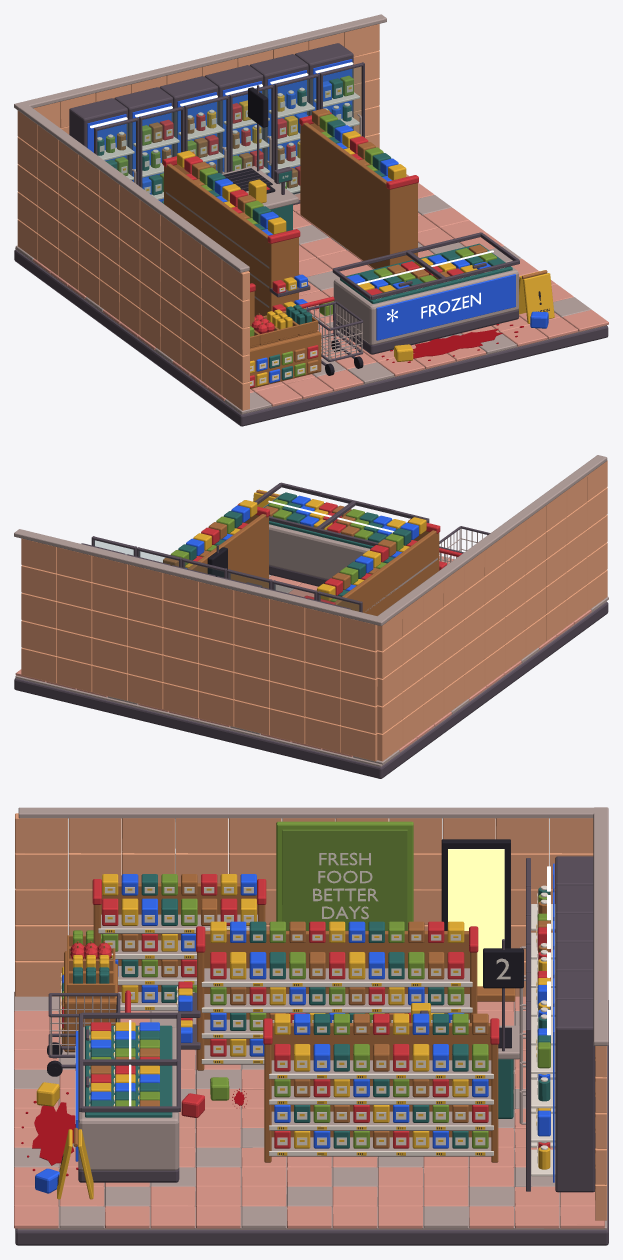
3 renders of one model, top to bottom at view 1: azimuth 30°, elevation 25°; view 2: azimuth 150°, elevation 25°; view 3: azimuth 270°, elevation 25°, orthographic. The views are drawn at different scales.
Visible parts, largest first — view 1: static_pal_skinWarm, static_pal_woodWarm, static_pal_asphalt, static_pal_sidewalk, static_pal_skinBlush, static_pal_policeBlue, static_pal_schoolBusYellow, static_pal_picketWhite, static_pal_backpackTeal, static_pal_survivorRed, door_fridge_04_mesh, door_fridge_03_mesh (+10 smaller); view 2: static_pal_skinWarm, static_pal_sidewalk, static_pal_asphalt, static_pal_woodWarm, static_pal_backpackTeal, static_pal_schoolBusYellow, static_pal_skinBlush, static_pal_survivorRed, static_pal_policeBlue, static_pal_foliage, door_freezer_00_mesh, door_freezer_01_mesh (+6 smaller); view 3: static_pal_sidewalk, static_pal_skinBlush, static_pal_skinWarm, static_pal_asphalt, static_pal_picketWhite, static_pal_woodWarm, static_pal_schoolBusYellow, static_pal_backpackTeal, static_pal_grass, static_pal_foliage, static_pal_policeBlue, static_pal_survivorRed (+7 smaller).
Boxes of the visible parts, left/top/right/bottom form: static_pal_skinWarm: left=17, top=24, right=379, bottom=410; static_pal_woodWarm: left=117, top=108, right=547, bottom=388; static_pal_asphalt: left=14, top=43, right=608, bottom=426; static_pal_sidewalk: left=14, top=14, right=606, bottom=414; static_pal_skinBlush: left=33, top=174, right=608, bottom=406; static_pal_policeBlue: left=87, top=59, right=548, bottom=383; static_pal_schoolBusYellow: left=123, top=87, right=554, bottom=386; static_pal_picketWhite: left=97, top=84, right=504, bottom=385; static_pal_backpackTeal: left=97, top=78, right=512, bottom=379; static_pal_survivorRed: left=159, top=103, right=463, bottom=387; door_fridge_04_mesh: left=274, top=73, right=319, bottom=205; door_fridge_03_mesh: left=229, top=84, right=274, bottom=179; static_pal_skinWarm: left=21, top=460, right=607, bottom=761; static_pal_sidewalk: left=14, top=455, right=608, bottom=766; static_pal_asphalt: left=14, top=526, right=608, bottom=778; static_pal_woodWarm: left=163, top=490, right=439, bottom=615; static_pal_backpackTeal: left=178, top=492, right=411, bottom=596; static_pal_schoolBusYellow: left=185, top=489, right=426, bottom=600; static_pal_skinBlush: left=15, top=555, right=591, bottom=756; static_pal_survivorRed: left=193, top=502, right=462, bottom=604; static_pal_policeBlue: left=185, top=495, right=418, bottom=590; static_pal_foliage: left=170, top=499, right=403, bottom=601; door_freezer_00_mesh: left=316, top=500, right=429, bottom=546; door_freezer_01_mesh: left=254, top=482, right=354, bottom=531; static_pal_sidewalk: left=14, top=807, right=608, bottom=1229; static_pal_skinBlush: left=14, top=996, right=604, bottom=1228; static_pal_skinWarm: left=15, top=813, right=606, bottom=1220; static_pal_asphalt: left=15, top=856, right=608, bottom=1245; static_pal_picketWhite: left=61, top=852, right=555, bottom=1176; static_pal_woodWarm: left=62, top=874, right=550, bottom=1162; static_pal_schoolBusYellow: left=36, top=874, right=550, bottom=1199; static_pal_backpackTeal: left=62, top=874, right=550, bottom=1148; static_pal_grass: left=282, top=829, right=407, bottom=930; static_pal_foliage: left=62, top=821, right=550, bottom=1148; static_pal_policeBlue: left=35, top=863, right=554, bottom=1193; static_pal_survivorRed: left=62, top=874, right=550, bottom=1148.
Size of the model in its own units: 8.4 by 3.44 by 9.02.
